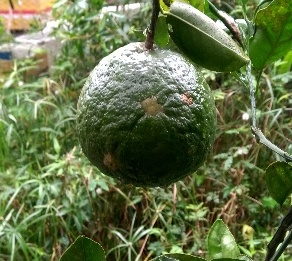Cam: (76, 37, 216, 187)
